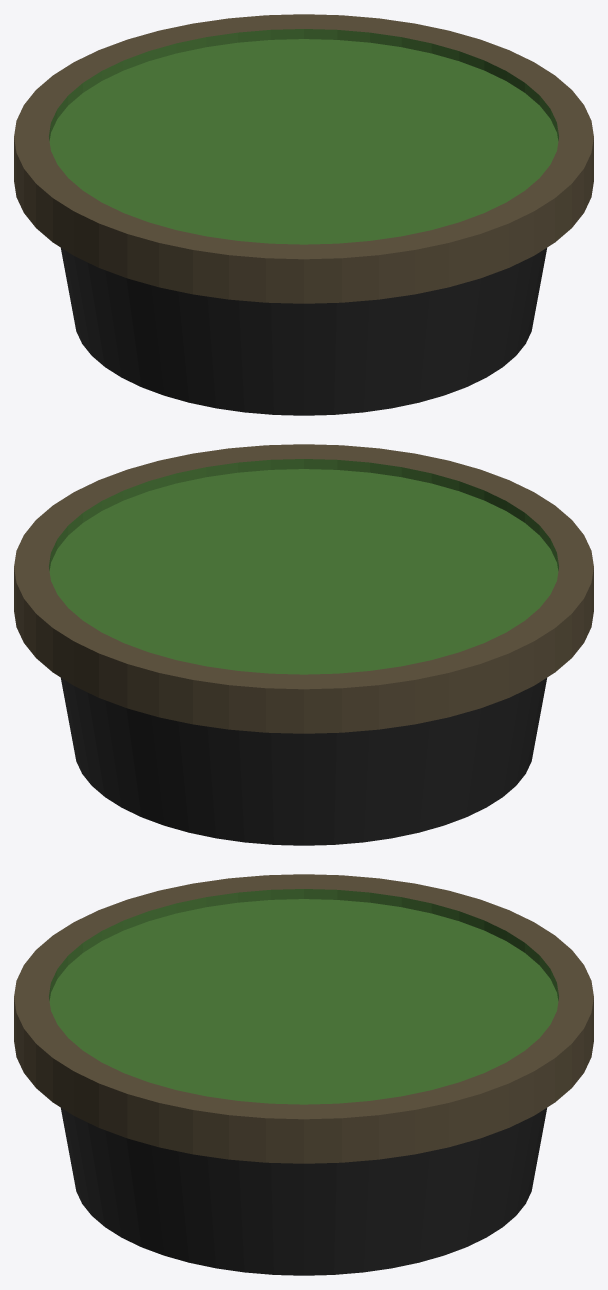
The model's file is MesaCircular.glb.
3 renders of one model, top to bottom at view 1: azimuth 30°, elevation 25°; view 2: azimuth 150°, elevation 25°; view 3: azimuth 270°, elevation 25°, orthographic.
Visible parts, largest first — view 1: Cylinder; view 2: Cylinder; view 3: Cylinder.
Boxes of the visible parts, x1,y1,x2,y2 form: Cylinder: [14, 14, 593, 415]; Cylinder: [14, 444, 593, 845]; Cylinder: [14, 874, 593, 1275].
Size of the model in its own units: 2.6 by 0.9 by 2.6.
